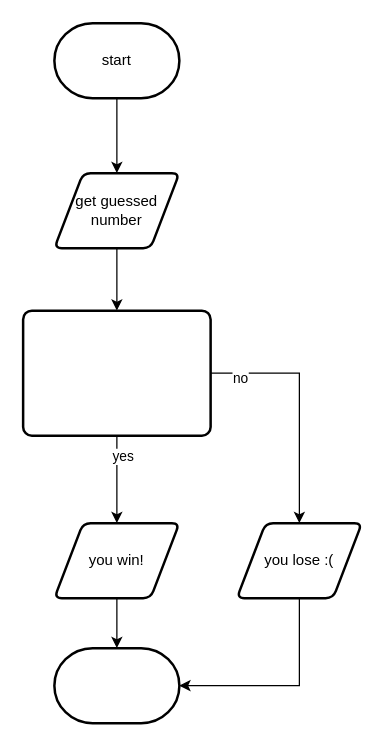
This 384x745 diagram has some shape labels left out. The shapes that lost their labels are listed below. From the top down, each one's centre as x and y in pixels, then its label:
pixel 116 372: if number is = to NumberAnswer
pixel 116 685: end
